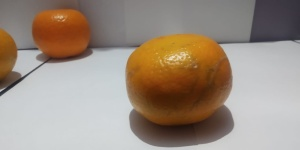BAD: (125, 35, 233, 128)
